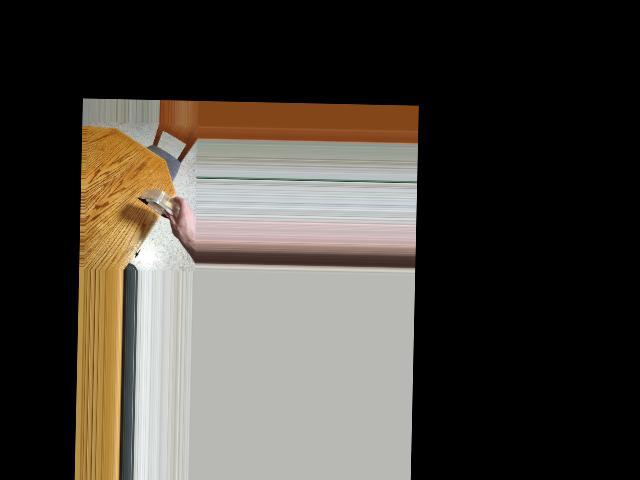cheese: (146, 177, 190, 235)
